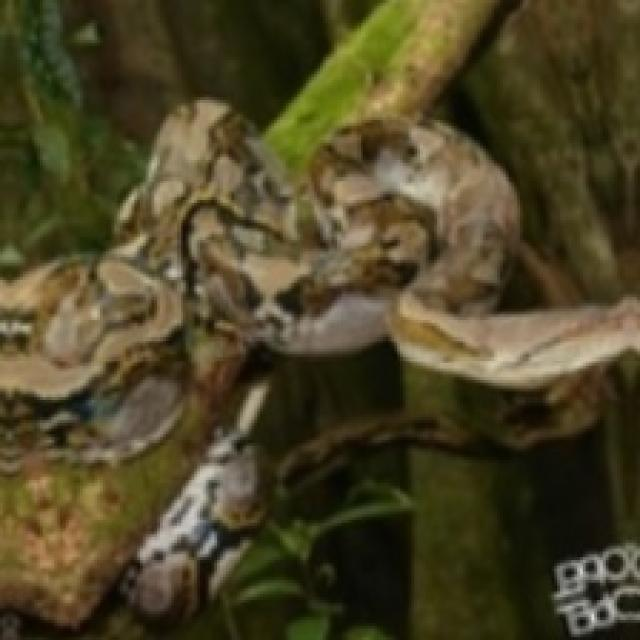reticulated python: (0, 100, 640, 472)
